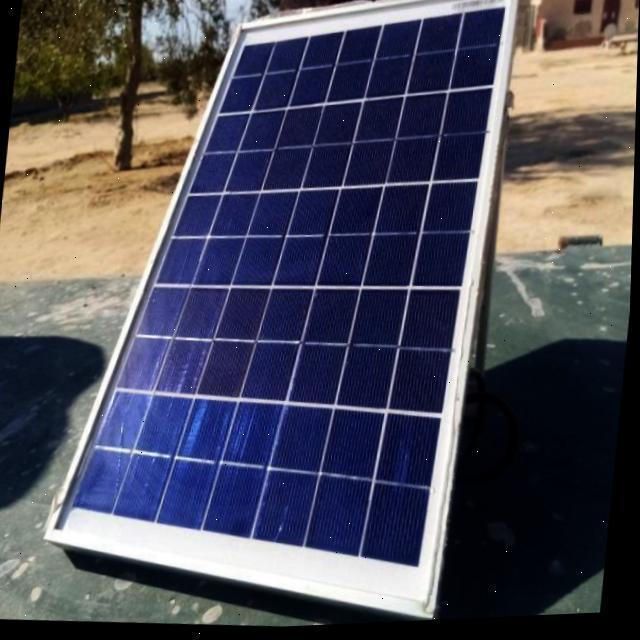Normal Solar Panel: (42, 0, 516, 638)
